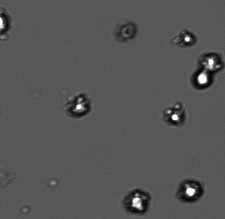Dead Cell: (114, 18, 138, 40)
Living Cell: (64, 91, 92, 117), (123, 188, 151, 214), (176, 178, 204, 203), (164, 102, 187, 126), (190, 67, 214, 90), (200, 51, 223, 70), (178, 28, 196, 46), (1, 8, 11, 39)
